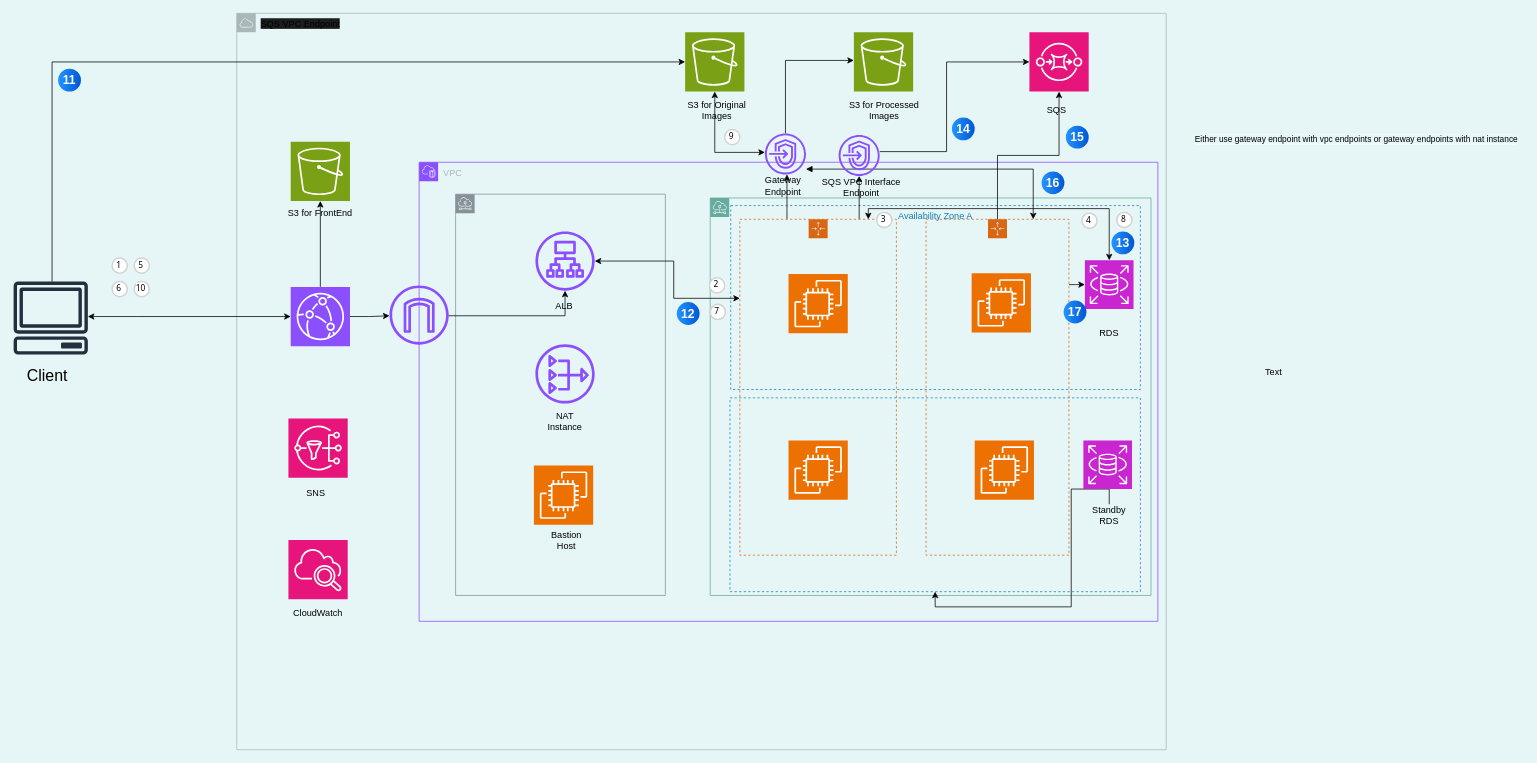
This 1537x763 diagram has some shape labels left out. The box of each missing label's shape, as (x1, y1, x2, y2) in pixels:
Auto Scaling Group API: (739, 218, 896, 555)
Auto Scaling Group Worker Img Processing: (925, 218, 1069, 555)
Availability Zone B: (729, 397, 1140, 592)
CloudFront: (290, 286, 350, 346)
Private Subnet: (709, 197, 1151, 595)
Public Subnet: (455, 193, 665, 595)
